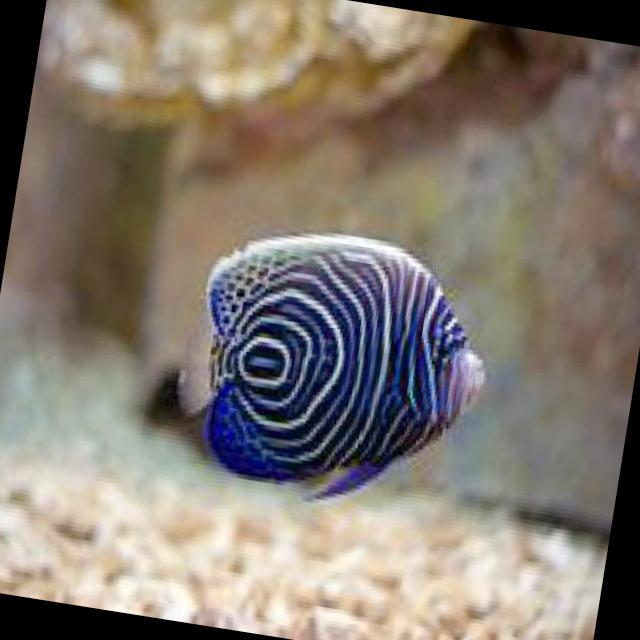AngelFish: (173, 217, 507, 524)
